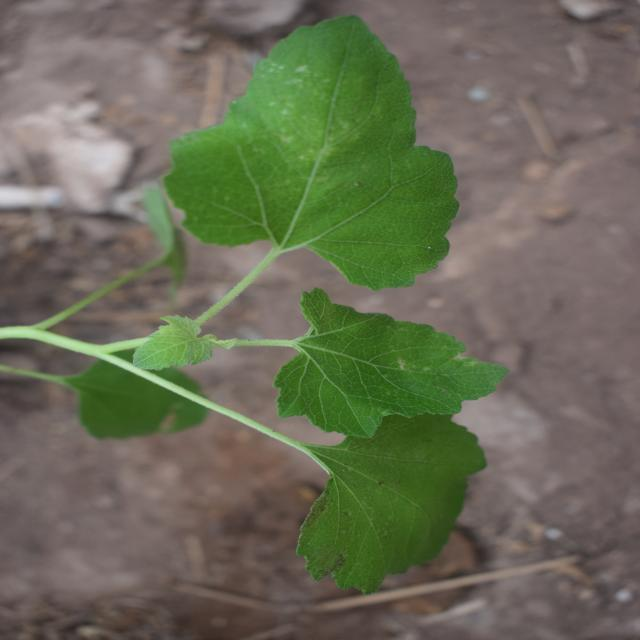cocklebur: (43, 76, 602, 530)
